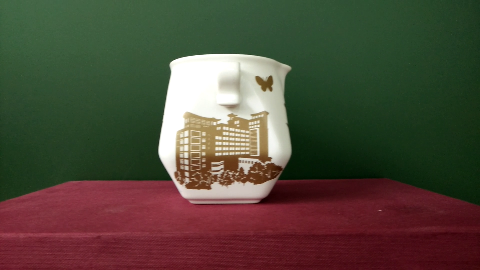butterfly: (246, 63, 285, 102)
lenwen: (183, 120, 270, 182)
